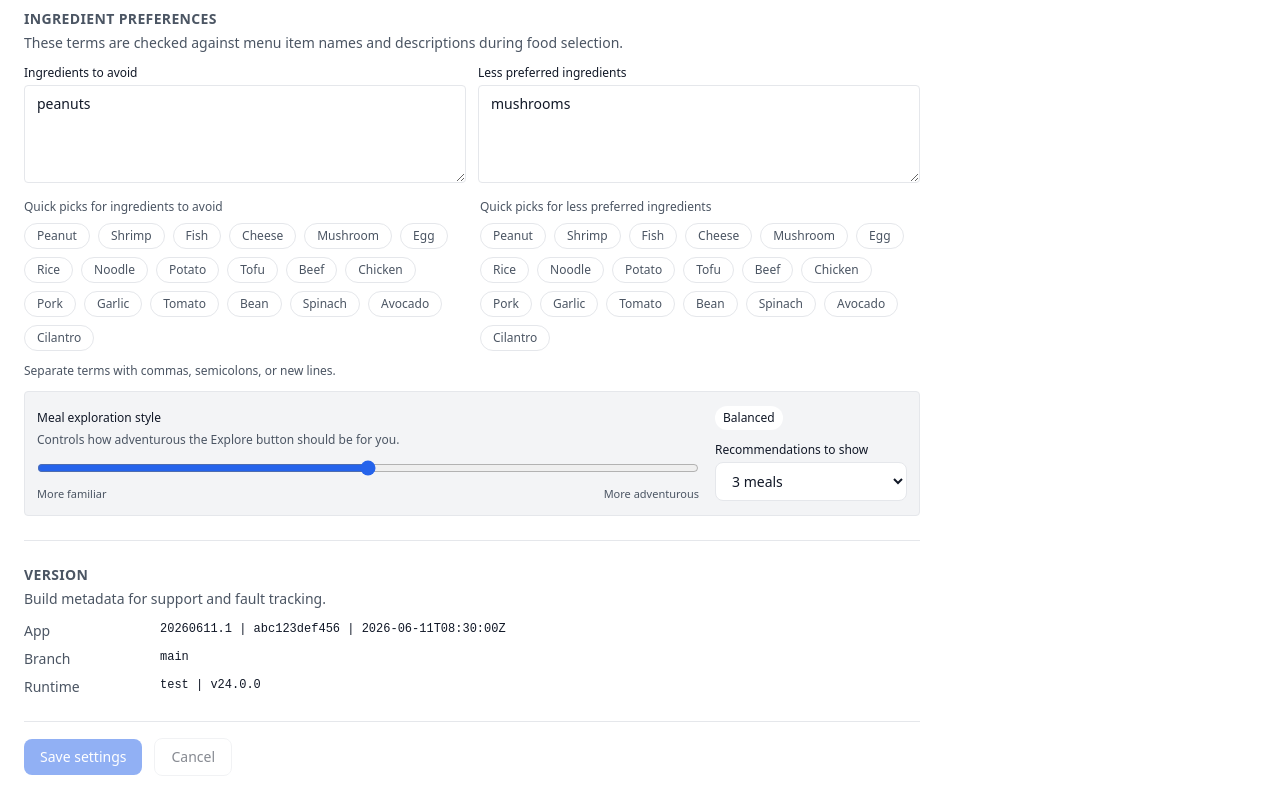
Test case: Settings › saves a personal exploration style from the settings page
(page scrolled)
Set the slider labelled "Meal exploration style" to "85" at (594, 468), box [37,460,699,476]
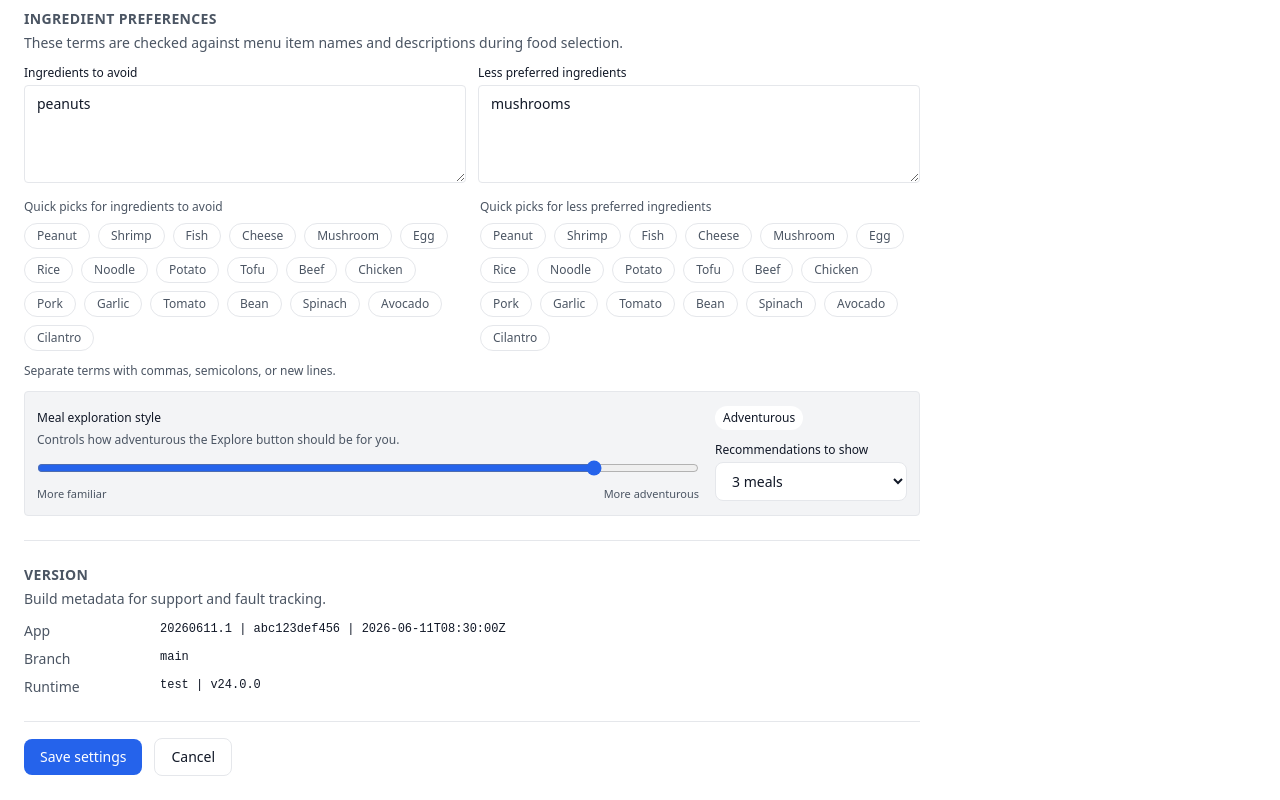
Click the button "Save settings" at (83, 756), box [24,738,142,774]
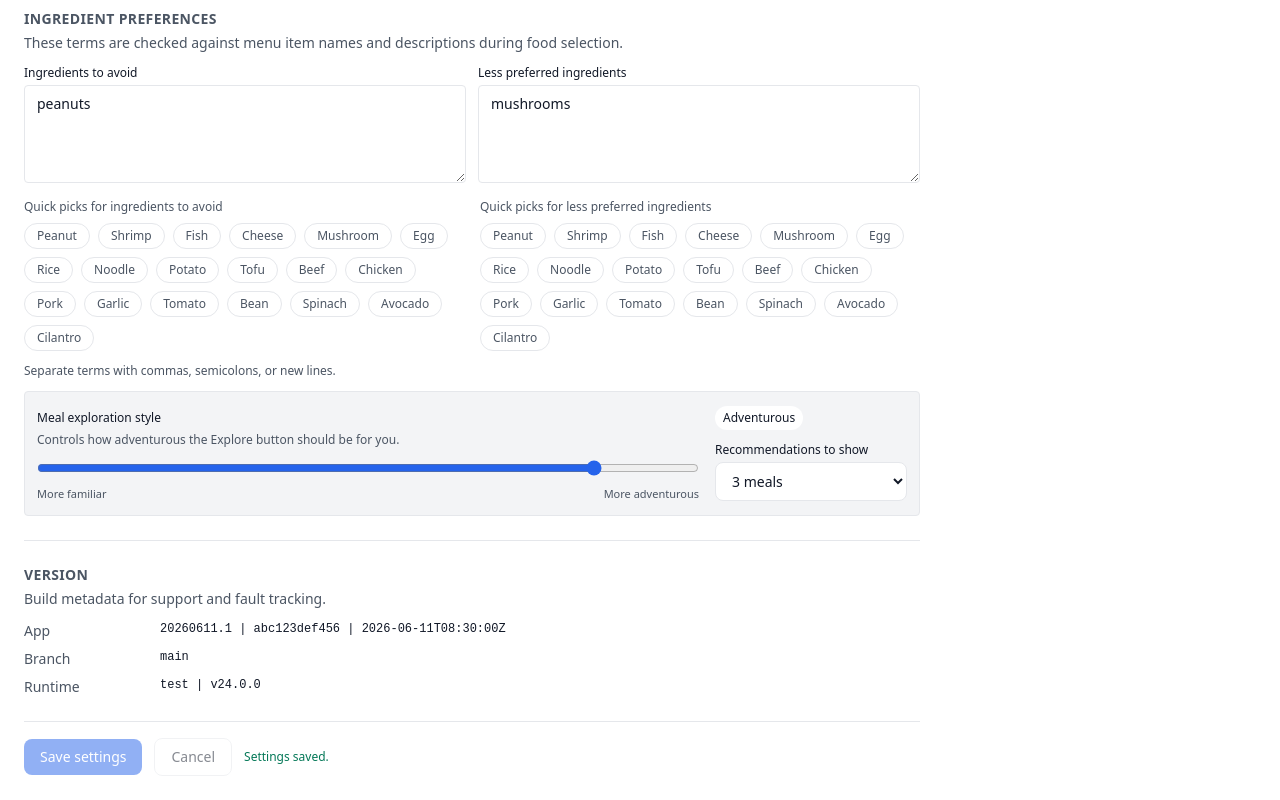
Expected: the text "Settings saved." is shown, [244,748,329,764]
